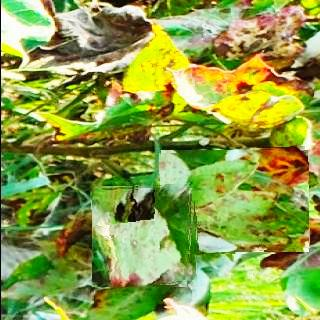blight: (159, 148, 308, 254), (91, 184, 195, 287)
